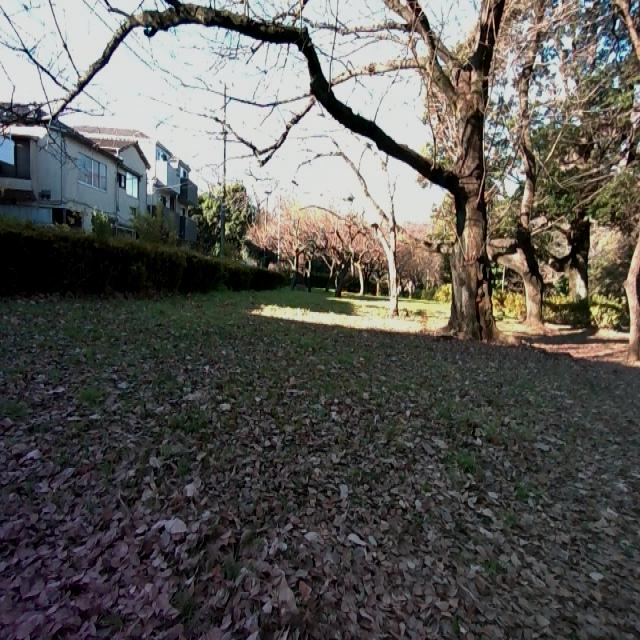artifact: (0, 104, 194, 234)
bush: (0, 237, 279, 300)
tree: (126, 0, 501, 333), (486, 0, 561, 330), (551, 2, 596, 332), (331, 142, 404, 316), (608, 0, 640, 359), (284, 210, 303, 290), (329, 227, 348, 301), (301, 218, 316, 290), (354, 249, 373, 301)
